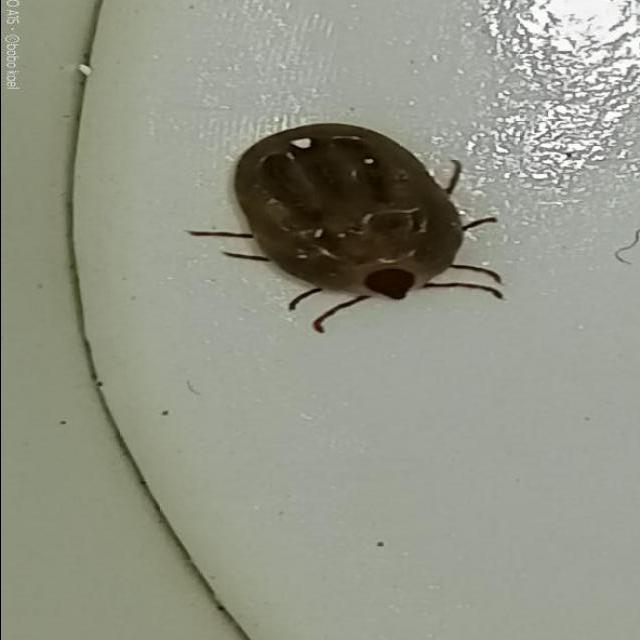Rhipicephalus Sanguineus-F-Fed: (184, 122, 502, 333)
